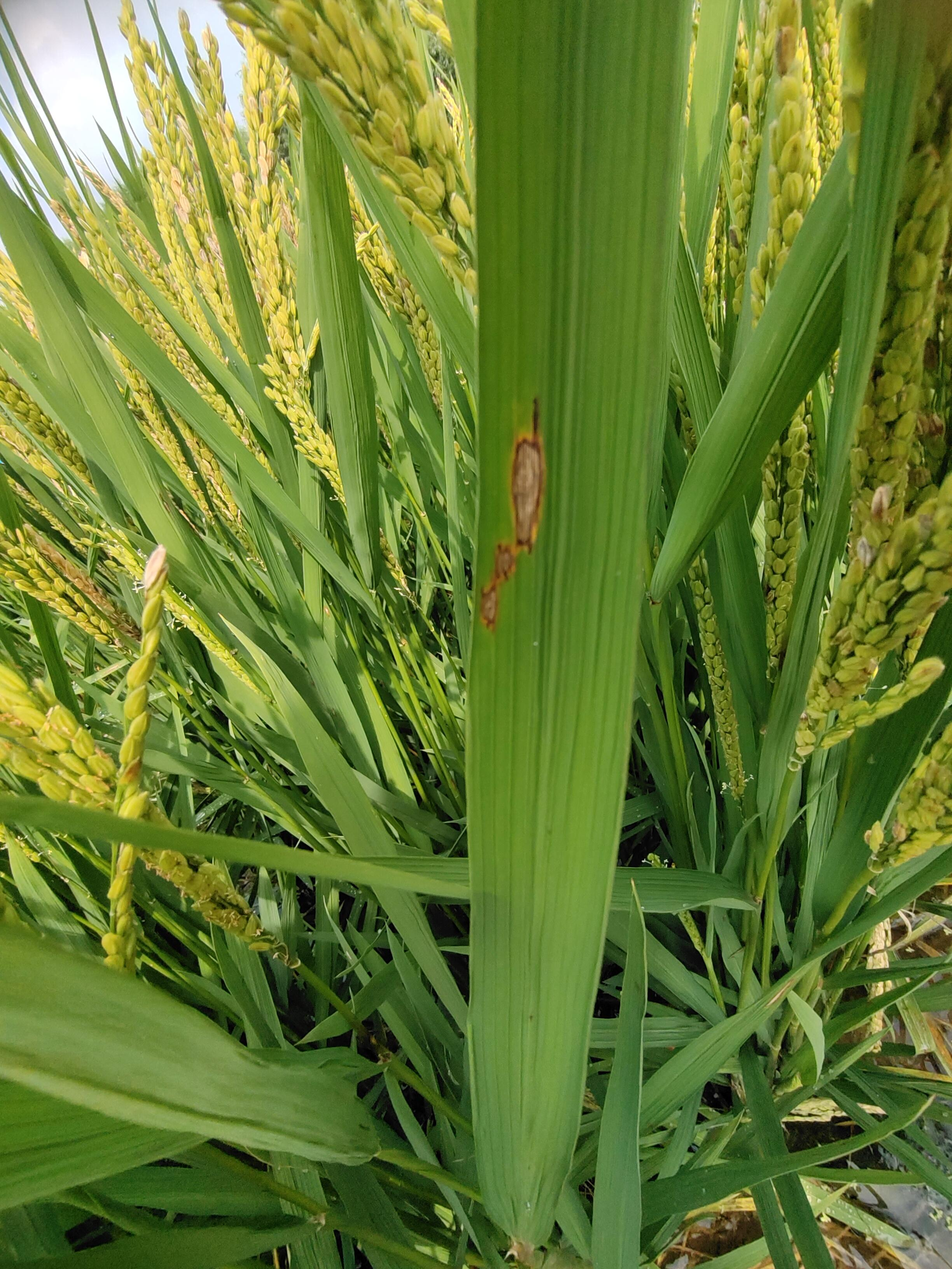LEAF: (466, 0, 694, 1254)
LEAF BLAST: (479, 397, 548, 632), (511, 400, 544, 549), (505, 578, 506, 578)
